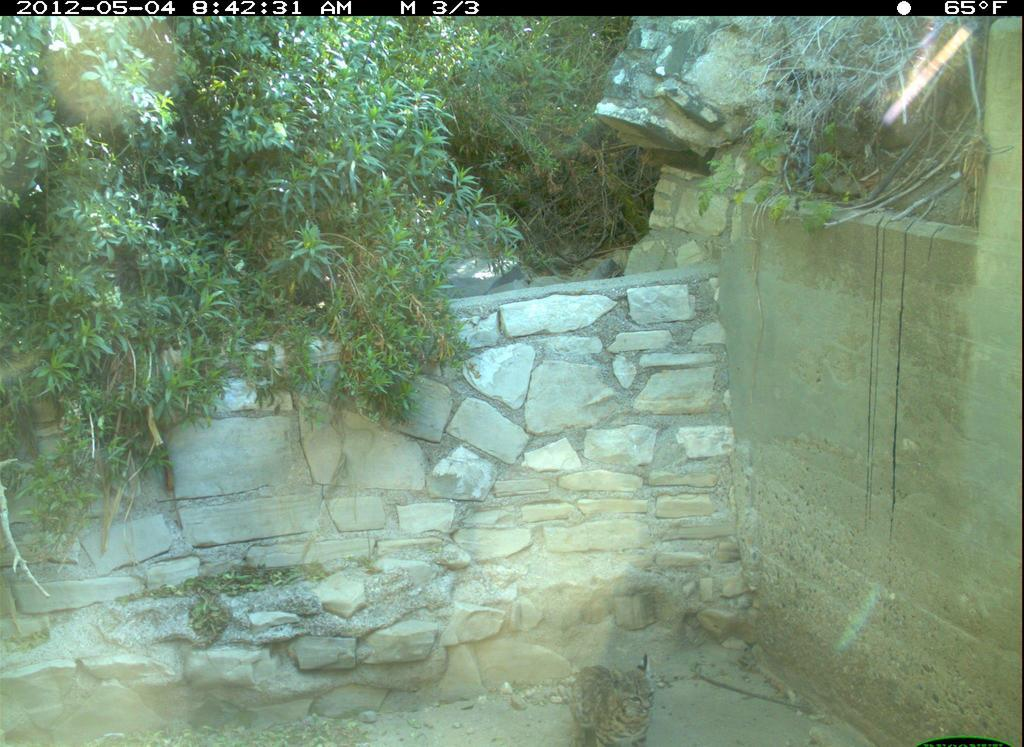bobcat: (552, 644, 665, 747)
